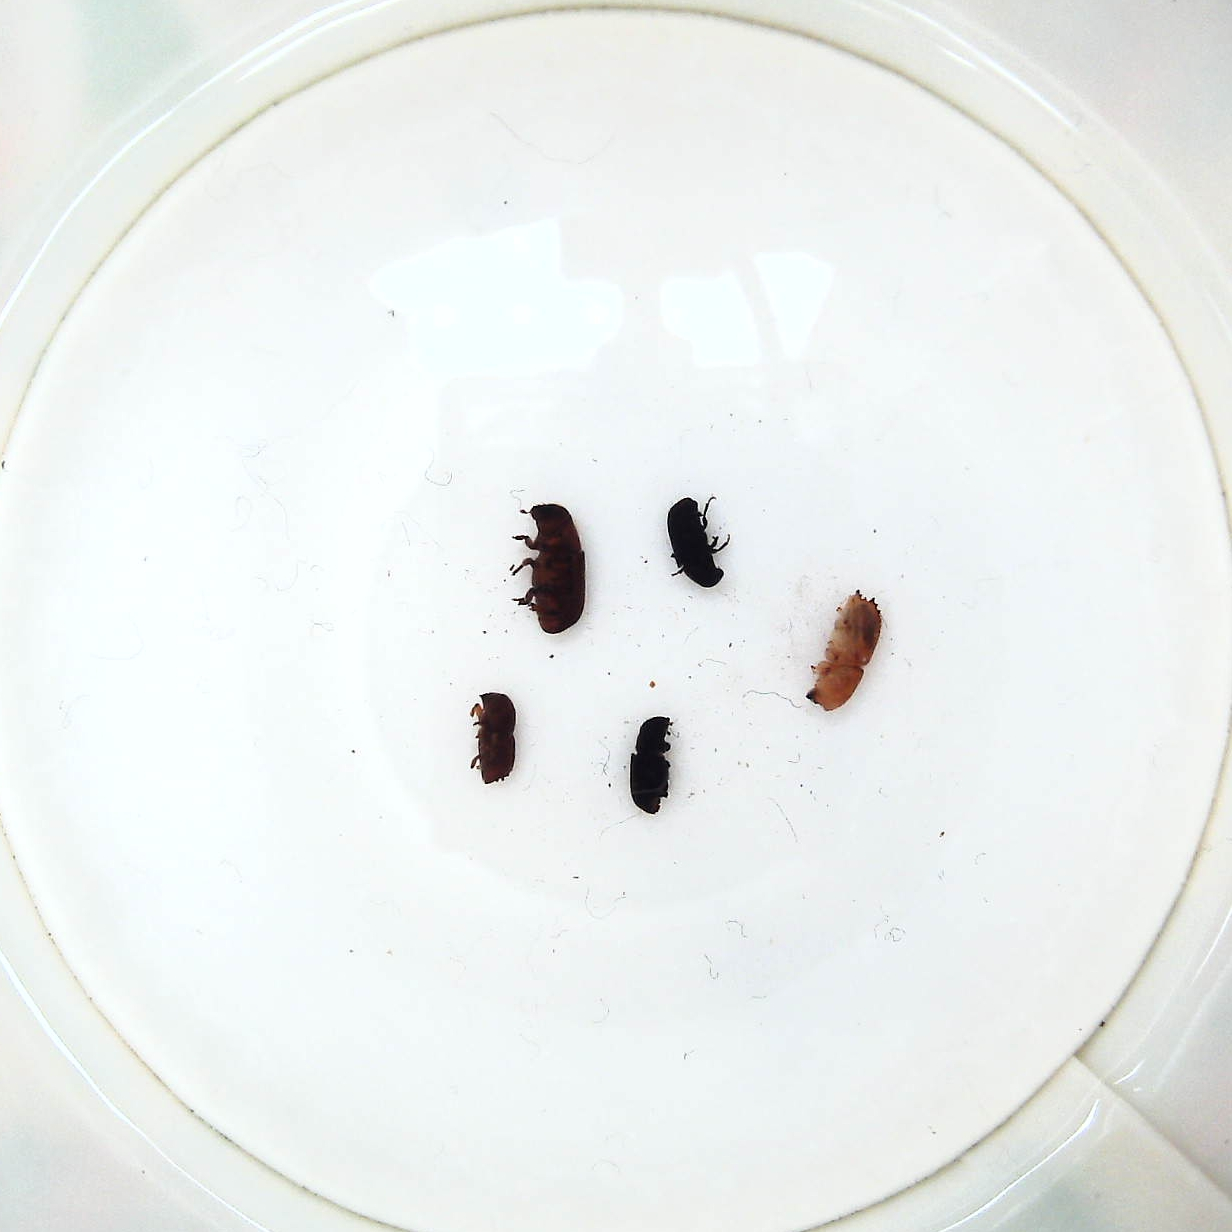Boerner: (803, 584, 889, 713)
Leconte: (511, 498, 593, 637)
armandi: (623, 713, 679, 820)
coleoptera: (665, 493, 728, 591)
linnaeus: (463, 681, 525, 791)
